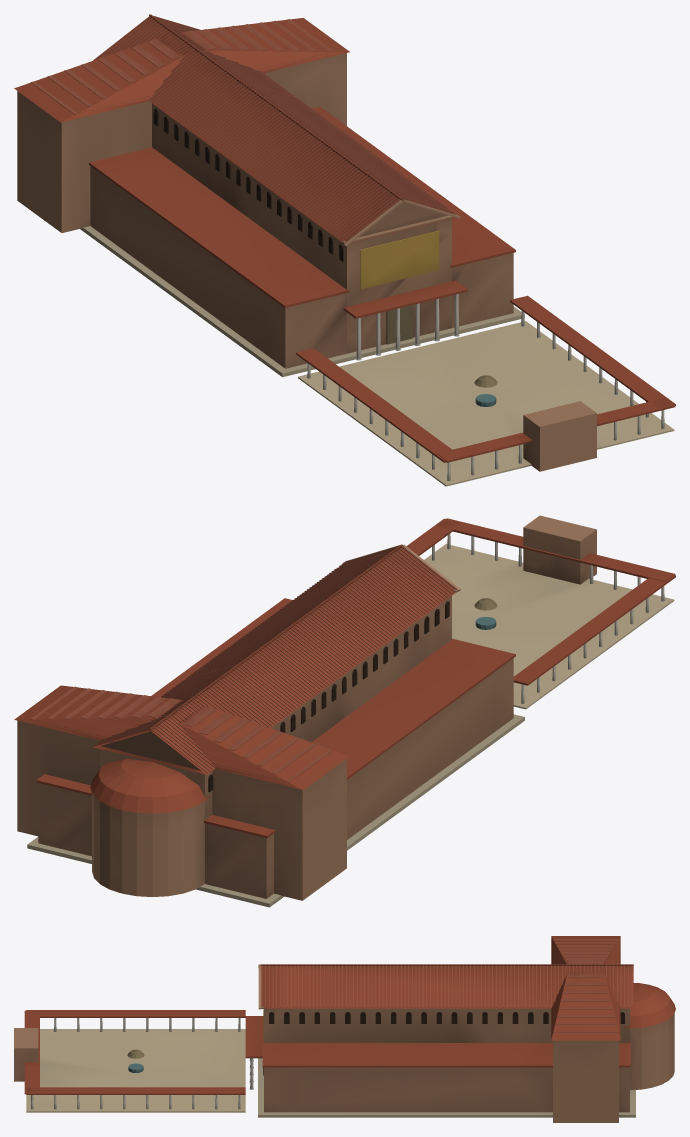
Rendered from old-st-peters.glb.
3 renders of one model, top to bottom at view 1: azimuth 30°, elevation 25°; view 2: azimuth 150°, elevation 25°; view 3: azimuth 270°, elevation 25°, orthographic. The views are drawn at different scales.
Parts seen in each view (by area): view 1: p2_roofs, p1_atrium, p0_base; view 2: p2_roofs, p1_atrium, p0_base; view 3: p2_roofs, p1_atrium, p0_base.
Boxes of the visible parts, x1,y1,x2,y2 form: p2_roofs: (14,14,675,462); p1_atrium: (17,53,664,480); p0_base: (80,226,674,486); p2_roofs: (14,518,675,838); p1_atrium: (17,515,664,900); p0_base: (27,544,674,907); p2_roofs: (24,936,675,1094); p1_atrium: (14,1008,674,1122); p0_base: (26,1029,635,1117).
Size of the model in its own units: 81.19 by 39.54 by 217.
